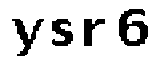6: (115, 4, 151, 49)
r: (80, 17, 106, 49)
s: (49, 18, 74, 46)
y: (12, 15, 43, 59)
